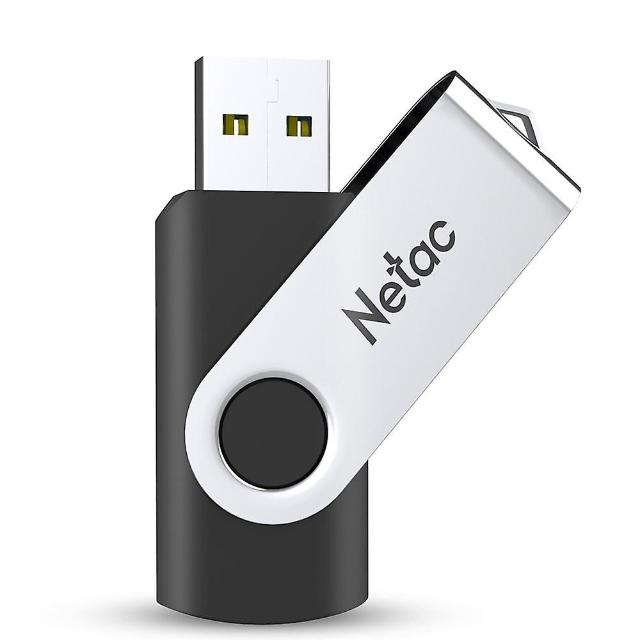USB-Flash-Drive: (155, 57, 369, 627)
